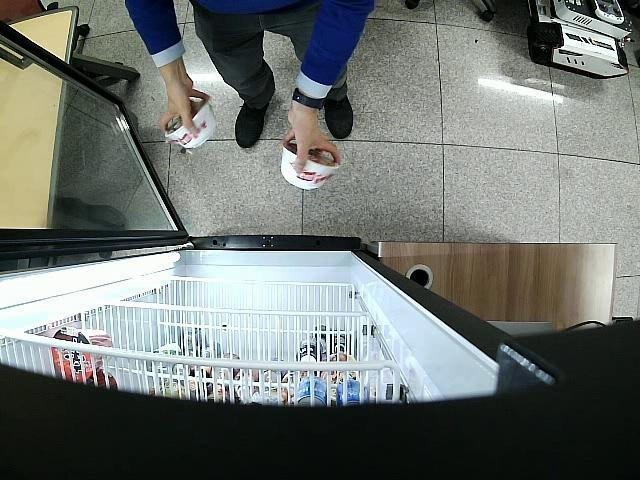09_yukGaeJang: (280, 141, 338, 190), (166, 100, 214, 150)
